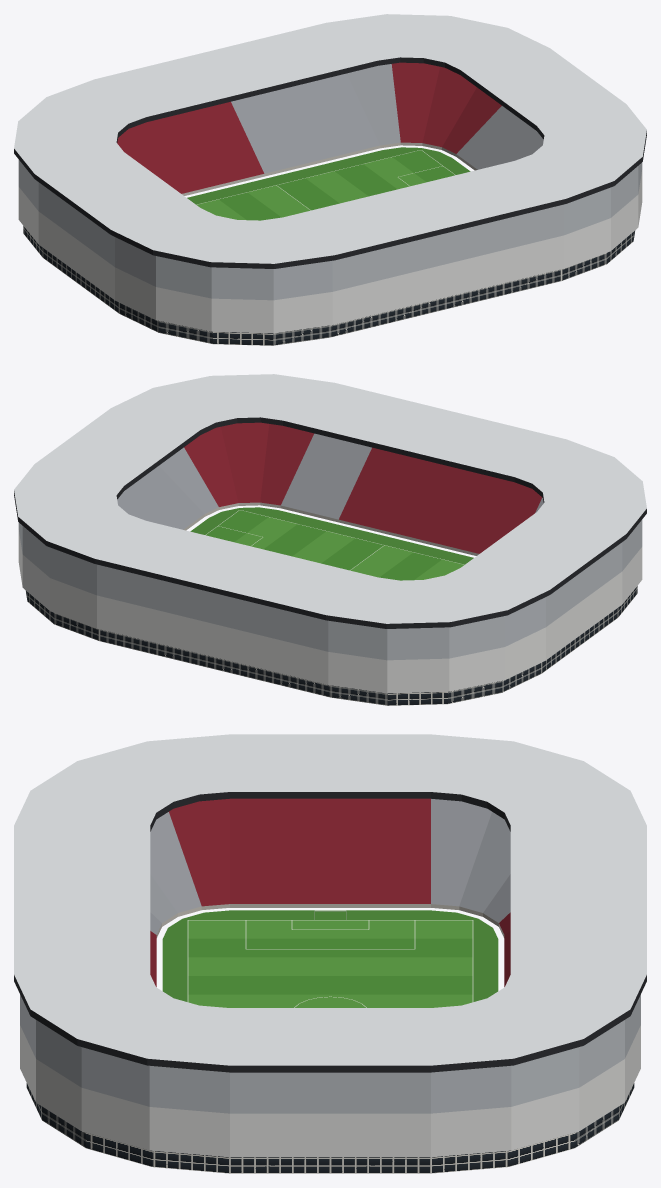
File: stade_geneve.glb
3 renders of one model, top to bottom at view 1: azimuth 30°, elevation 25°; view 2: azimuth 150°, elevation 25°; view 3: azimuth 270°, elevation 25°, orthographic. The views are drawn at different scales.
Visible parts, largest first — view 1: stade_geneve; view 2: stade_geneve; view 3: stade_geneve.
Boxes of the visible parts, x1,y1,x2,y2 form: stade_geneve: [14, 14, 646, 345]; stade_geneve: [14, 374, 646, 705]; stade_geneve: [14, 734, 646, 1173].
Size of the model in its own units: 187 by 29.8 by 151.
Materials: 2 (2 with a texture image).
